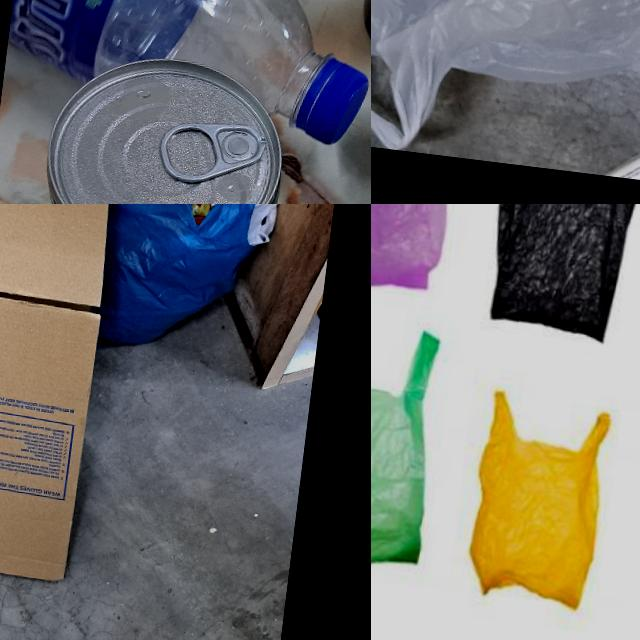aba de lata: (158, 117, 268, 190)
garrafa plástica: (2, 0, 328, 127)
lata: (20, 42, 295, 204)
papelão: (0, 204, 126, 584)
sacola plástica: (440, 346, 626, 628), (371, 0, 640, 189), (88, 204, 292, 366), (467, 204, 640, 347), (371, 309, 450, 605), (371, 204, 479, 315)
tampa plástica: (296, 51, 371, 149)
